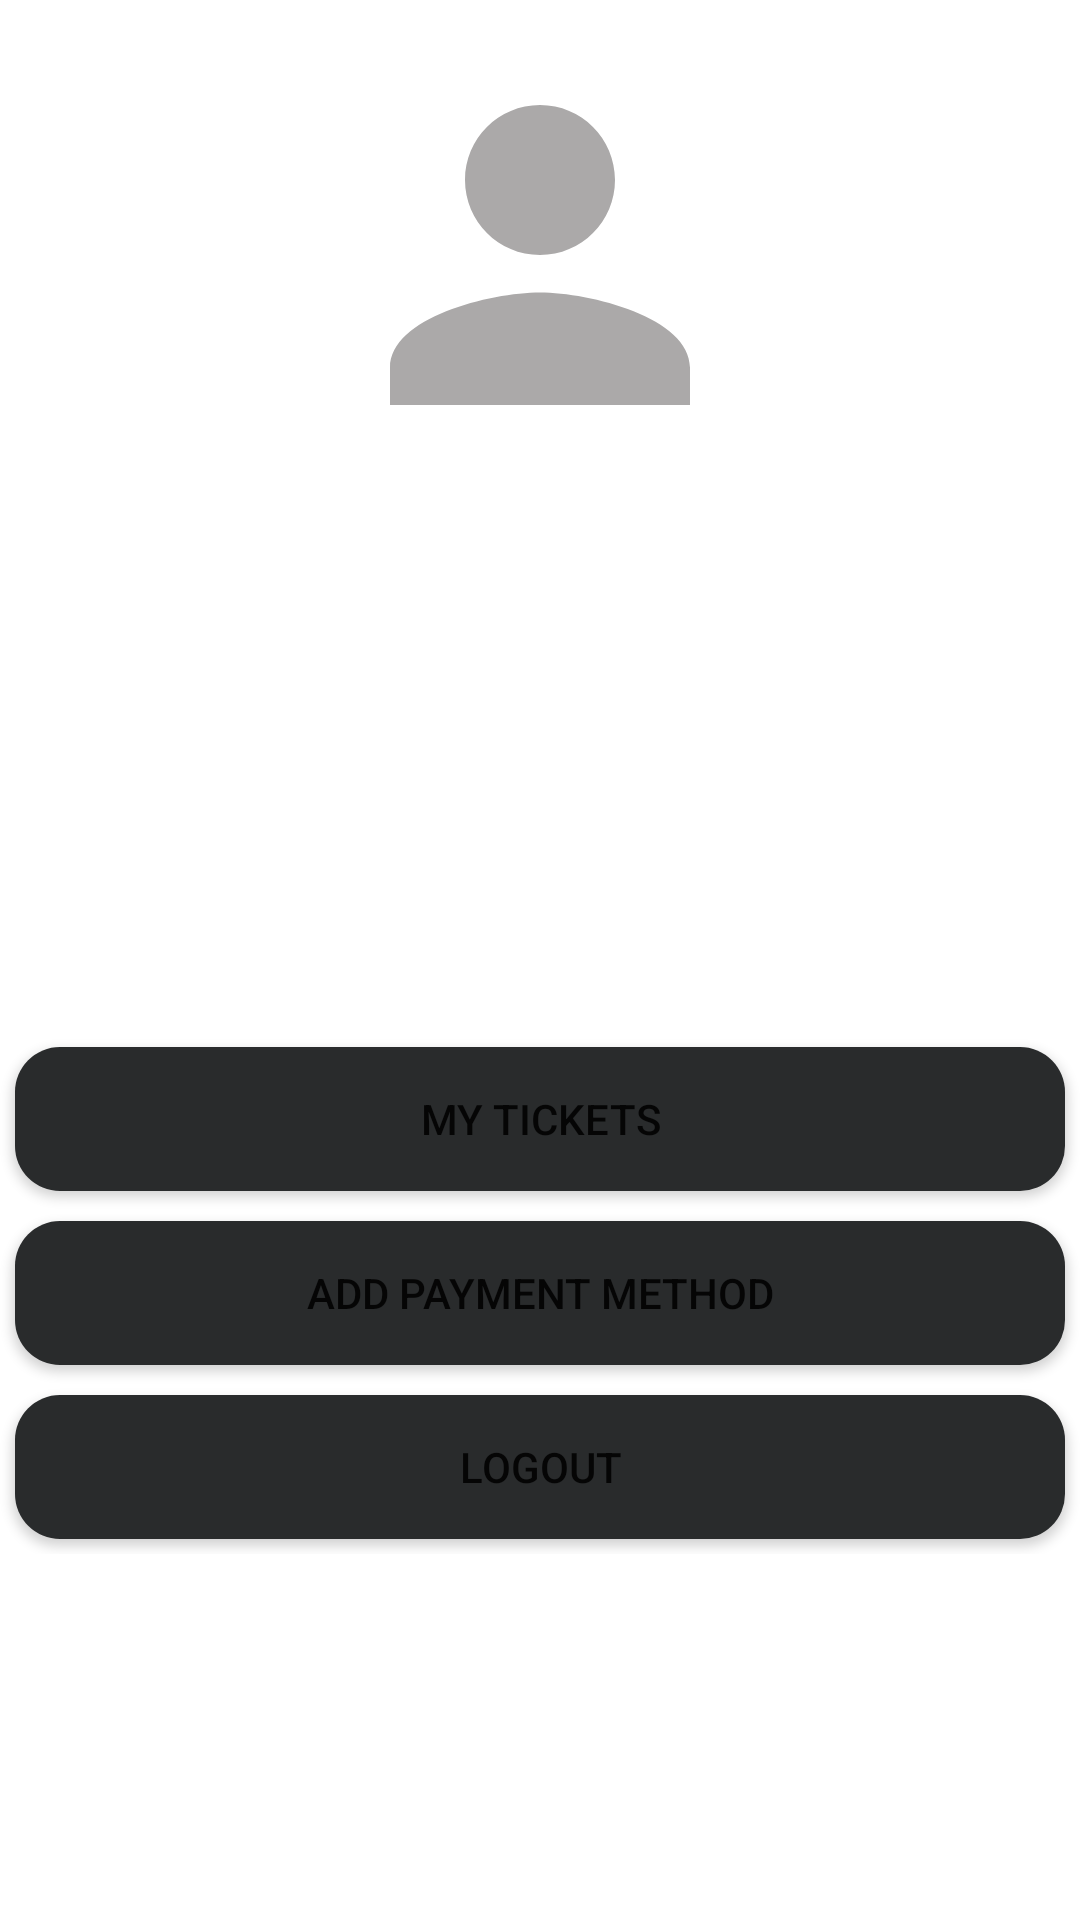

Icon click points for this 1080px×1920px phone screenshot, format (x,y):
person: (540,255)
